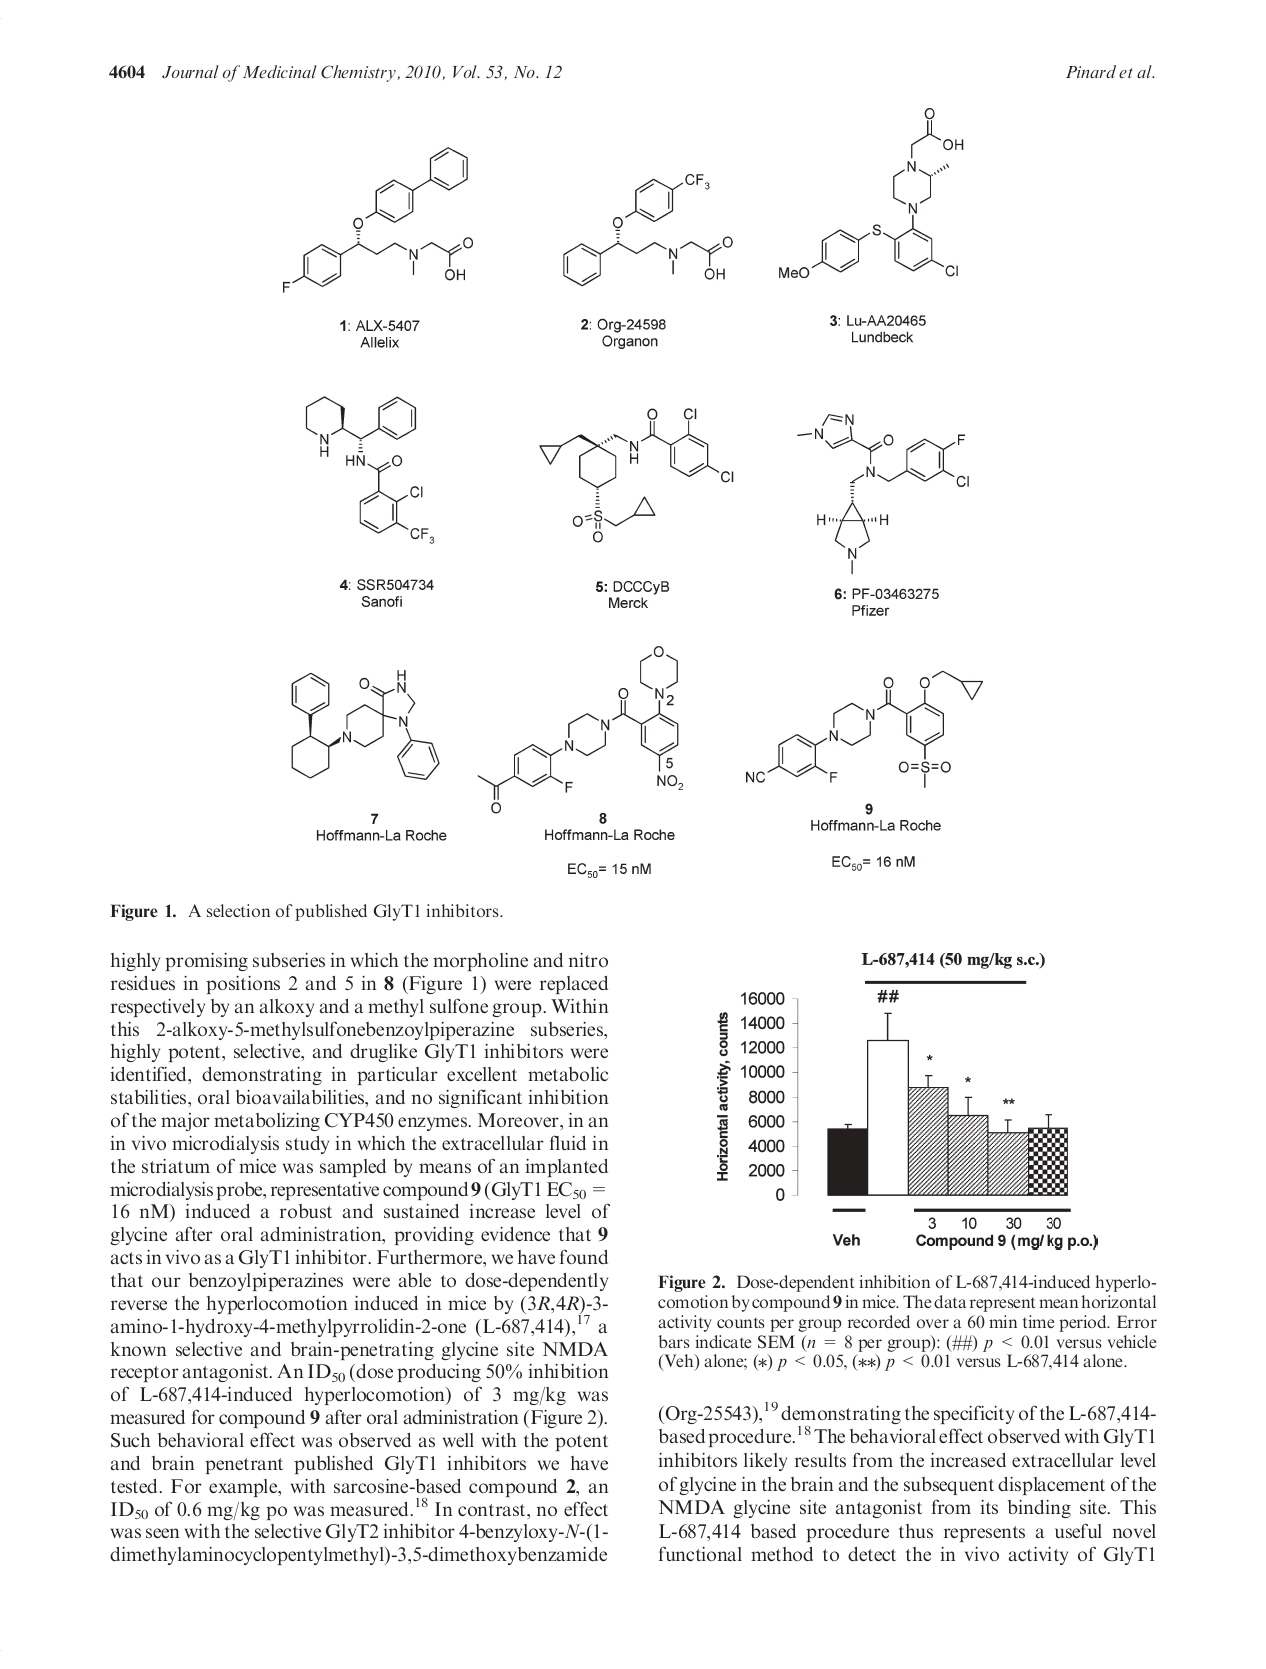exist_molecular: (477, 634, 699, 813), (769, 102, 967, 287), (743, 660, 987, 802), (274, 142, 488, 295), (797, 410, 980, 573), (537, 402, 743, 547), (302, 387, 443, 556), (559, 166, 737, 291), (293, 652, 444, 785)
